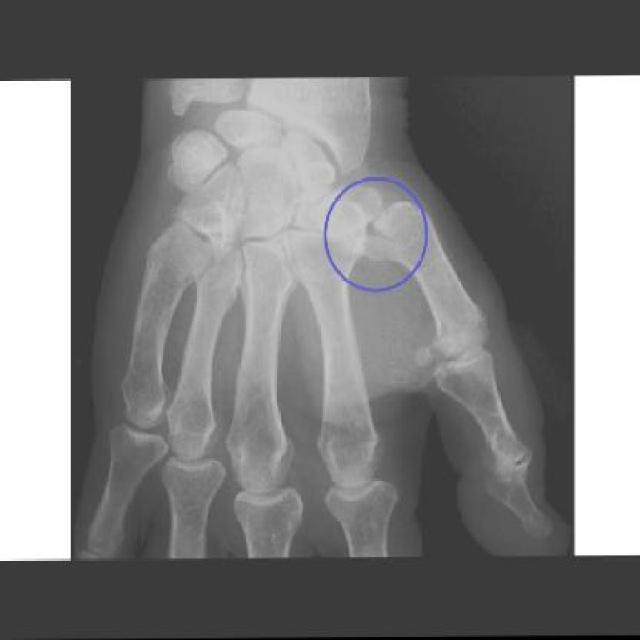Fracture: (357, 218, 397, 271)
